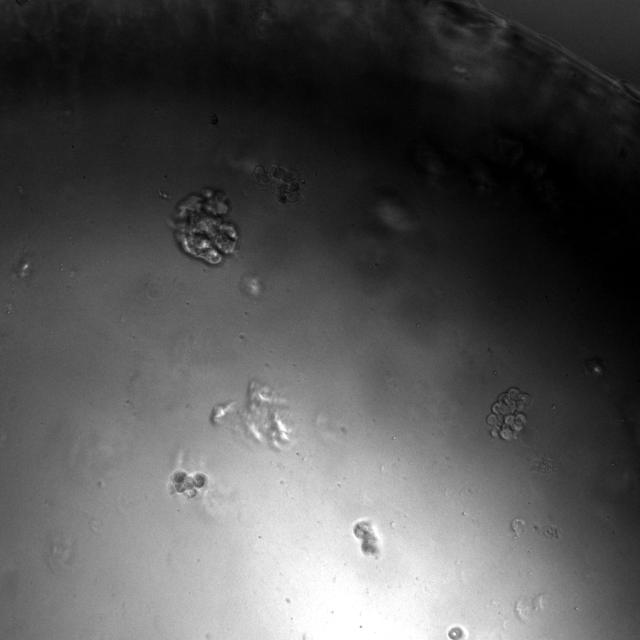organoid: (212, 379, 292, 450), (171, 188, 238, 265), (486, 388, 530, 440), (254, 163, 305, 203), (168, 470, 206, 498), (353, 520, 379, 556)
